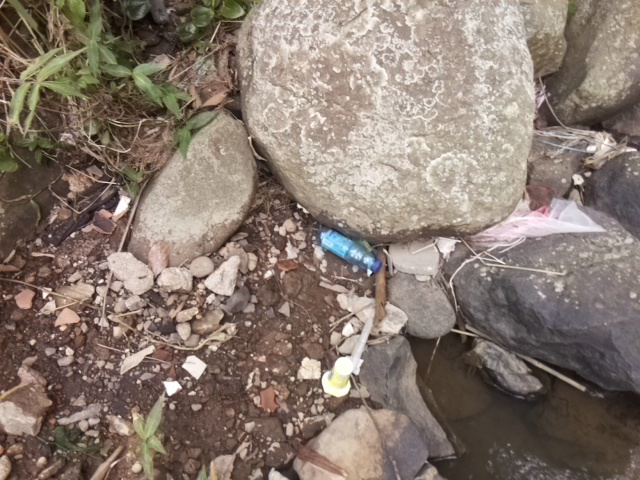Sampah_Botol_Plastik: (313, 223, 383, 273)
Sampah_Plastik: (470, 198, 608, 245)
Sampah_Styrofoam: (319, 357, 356, 398)
